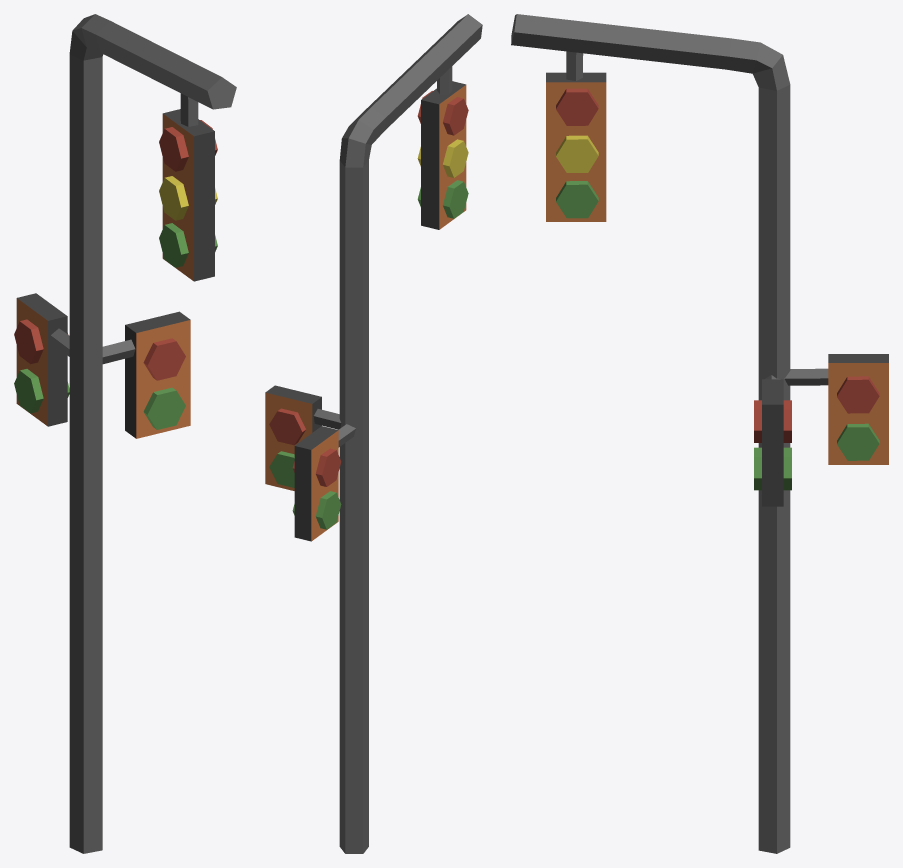
The model's file is pillar_003.fbx.
3 renders of one model, left to right at view 1: azimuth 30°, elevation 25°; view 2: azimuth 150°, elevation 25°; view 3: azimuth 270°, elevation 25°, orthographic. The views are drawn at different scales.
Visible parts, largest first — view 1: pillar_003; view 2: pillar_003; view 3: pillar_003.
Part boxes in pixels (x1,y1,x2,y2): pillar_003: (14,14,236,853); pillar_003: (265,14,482,853); pillar_003: (511,14,888,853).
Bounding box in the file's own units: 68.75 × 488 × 200.
